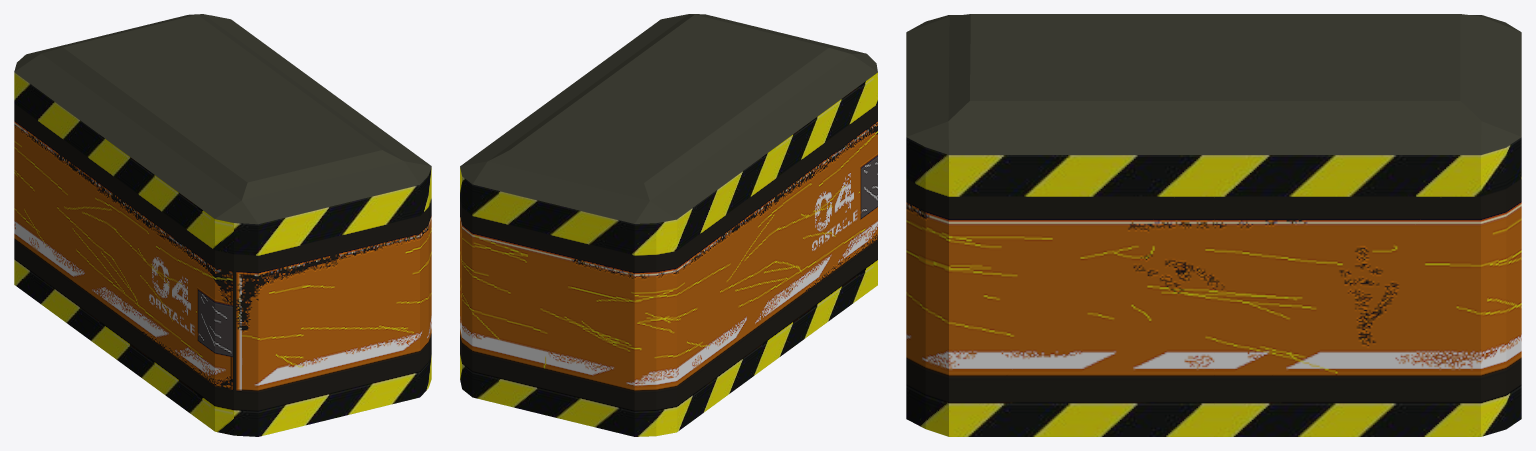
The model's file is rectangulo_alto.fbx.
3 renders of one model, left to right at view 1: azimuth 30°, elevation 25°; view 2: azimuth 150°, elevation 25°; view 3: azimuth 270°, elevation 25°, orthographic. The views are drawn at different scales.
Parts seen in each view (by area): view 1: Cube; view 2: Cube; view 3: Cube.
Part boxes in pixels (x1,y1,x2,y2): Cube: [14, 14, 431, 436]; Cube: [460, 14, 877, 436]; Cube: [906, 14, 1521, 436].
Size of the model in its own units: 2.13 by 2.27 by 3.96.
1 material, 1 textured.
